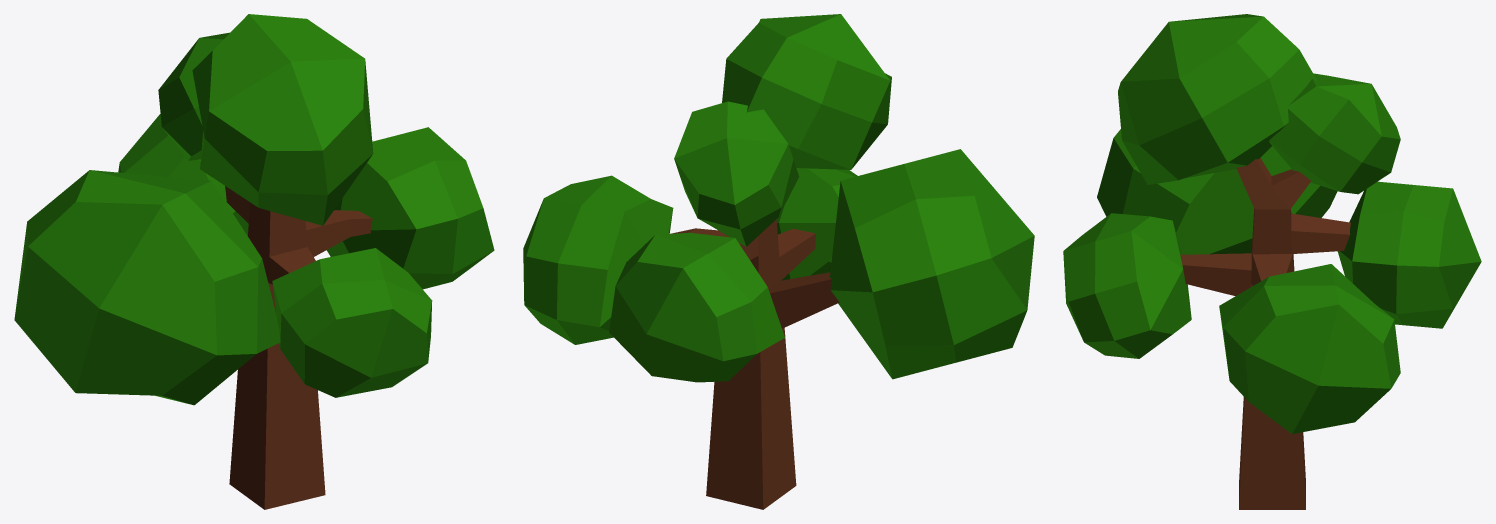
The model's file is Tree 1.fbx.
3 renders of one model, left to right at view 1: azimuth 30°, elevation 25°; view 2: azimuth 150°, elevation 25°; view 3: azimuth 270°, elevation 25°, orthographic. The views are drawn at different scales.
Parts seen in each view (by area): view 1: TreeRegular2; view 2: TreeRegular2; view 3: TreeRegular2.
Part boxes in pixels (x1=…): TreeRegular2: x1=14, y1=14, x2=494, y2=509; TreeRegular2: x1=523, y1=14, x2=1034, y2=509; TreeRegular2: x1=1063, y1=14, x2=1481, y2=509.
Bounding box in the file's own units: 1148 × 1075 × 879.
